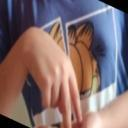hand: (18, 26, 82, 128)
